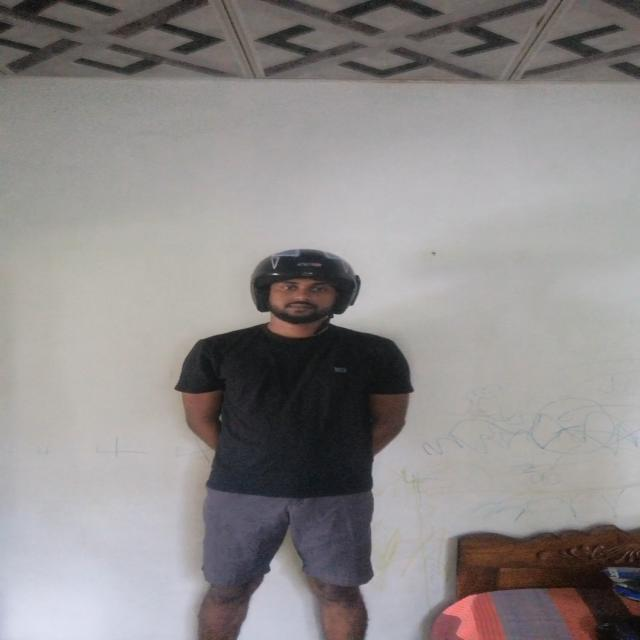Helmet_Wearer: (228, 242, 379, 340)
Person: (175, 250, 413, 640)
